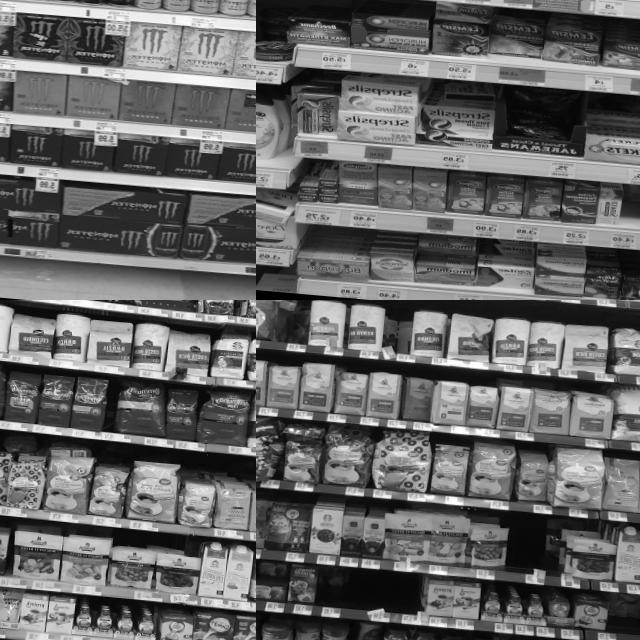empty_space: (507, 514, 542, 582), (350, 568, 394, 621), (394, 574, 419, 624), (141, 300, 200, 318)
